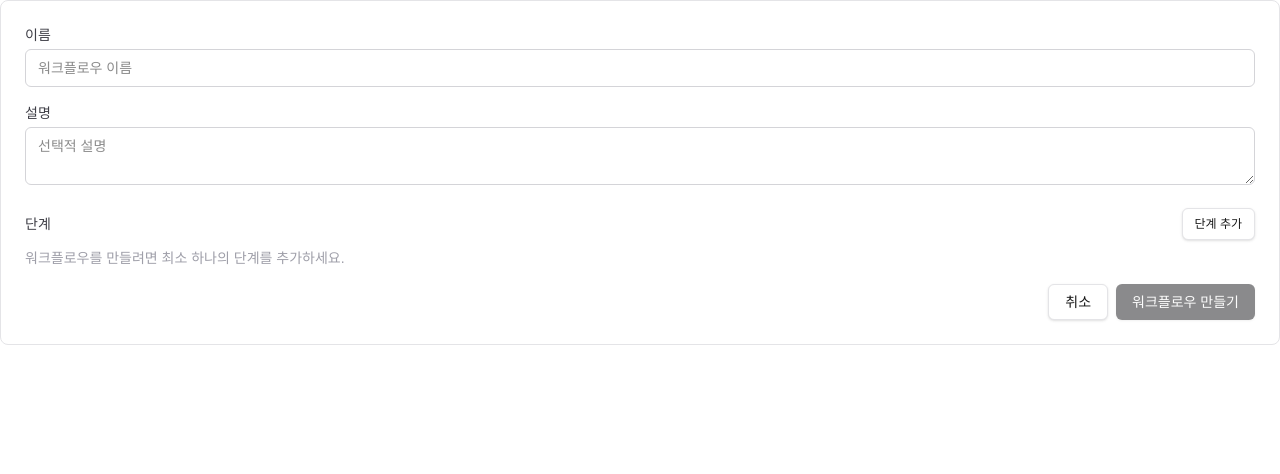
WorkflowCreateForm › submit is disabled when name is empty or no steps
Check: the button with test id "wf-create-submit" is disabled, box [1116,284,1255,320]
Note: Add name but no steps - still disabled
Type "Test" into the field with test id "wf-name-input" at (640, 68), box [25,49,1255,87]
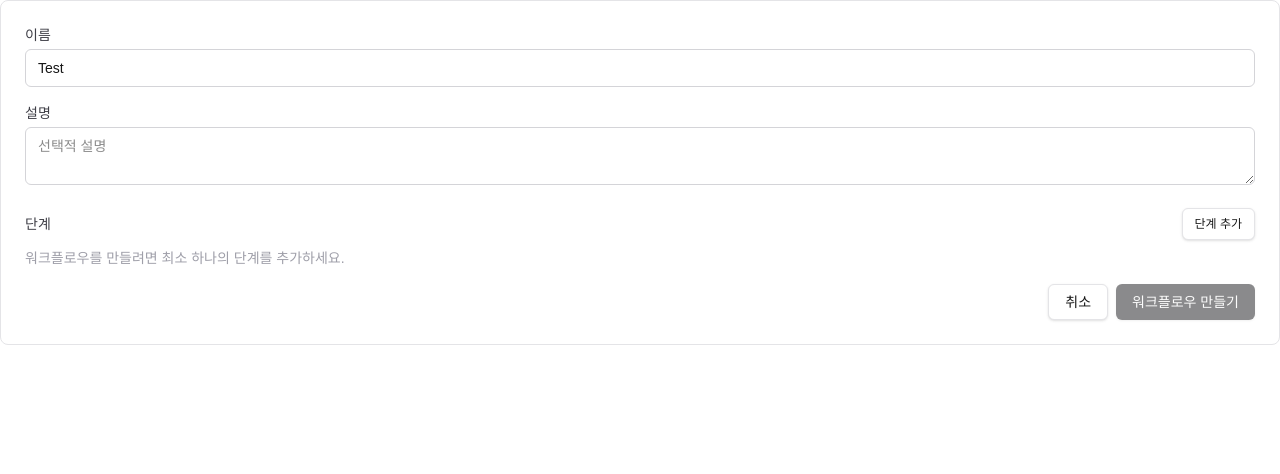
Check: the button with test id "wf-create-submit" is disabled, box [1116,284,1255,320]
Note: Add a step - should be enabled
Click the button with test id "add-step-button" at (1218, 224), box [1182,208,1255,240]
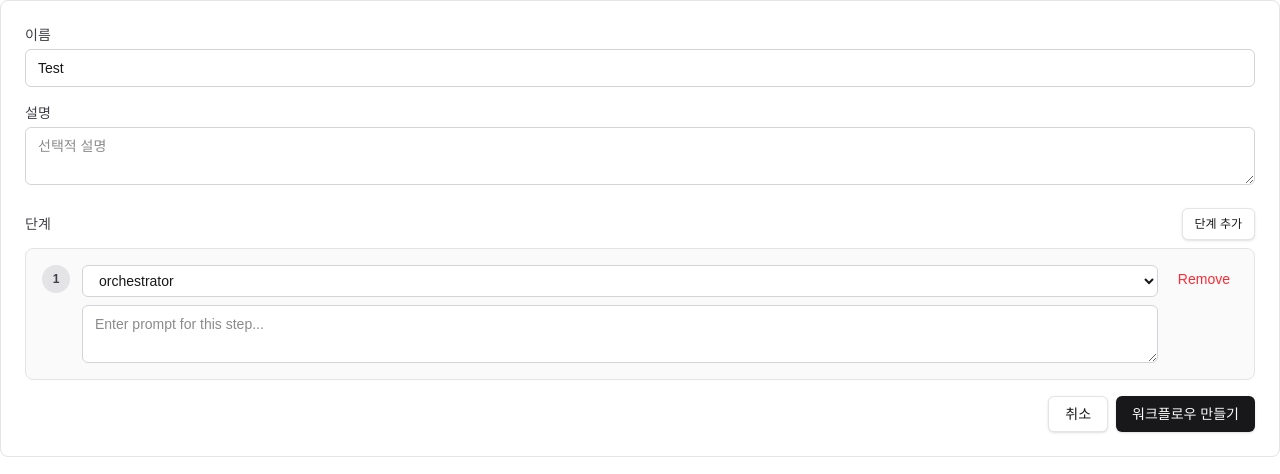
Check: the button with test id "wf-create-submit" is enabled, box [1116,396,1255,432]
